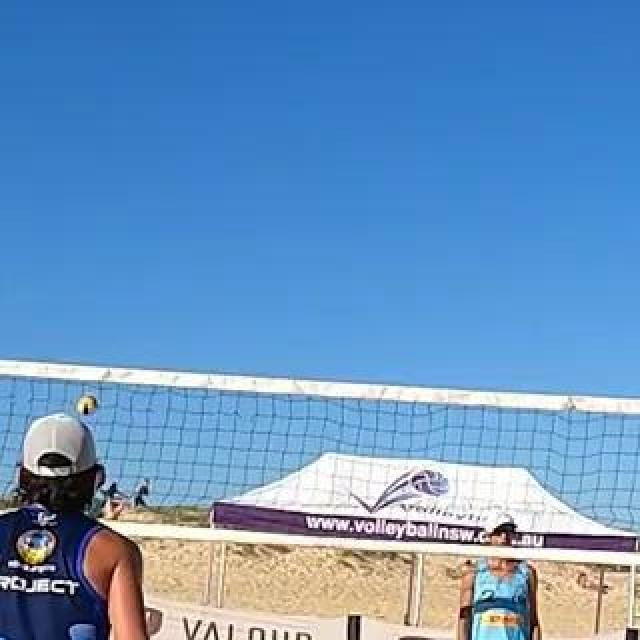volleyball: (77, 397, 99, 417)
